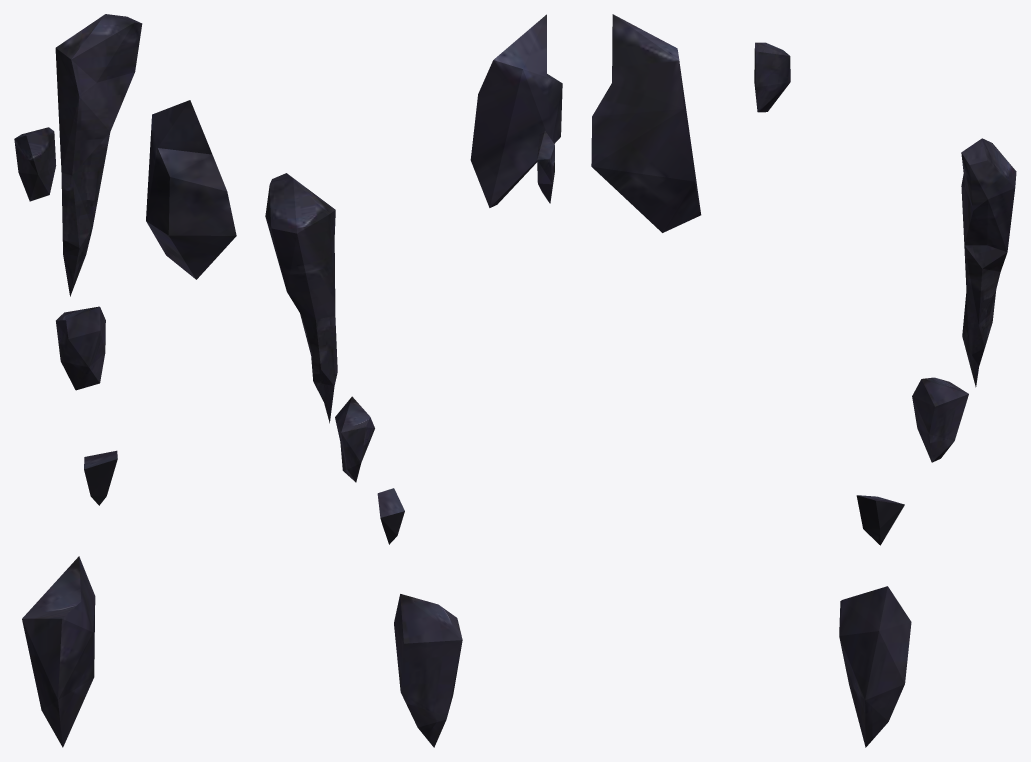
File: GZ_Xsc_fushi_03_D.FBX
The picture shows the model from 3 angles, left to right: view 1: azimuth 30°, elevation 25°; view 2: azimuth 150°, elevation 25°; view 3: azimuth 270°, elevation 25°; orthographic projection. The views are drawn at different scales.
Visible parts, largest first — view 1: GZ_Xsc_fushi_03_D; view 2: GZ_Xsc_fushi_03_D; view 3: GZ_Xsc_fushi_03_D.
Boxes of the visible parts, x1,y1,x2,y2 form: GZ_Xsc_fushi_03_D: (14,14,236,747); GZ_Xsc_fushi_03_D: (265,14,562,747); GZ_Xsc_fushi_03_D: (591,14,1016,747).
Bounding box in the file's own units: 17.93 × 57.18 × 30.03.
